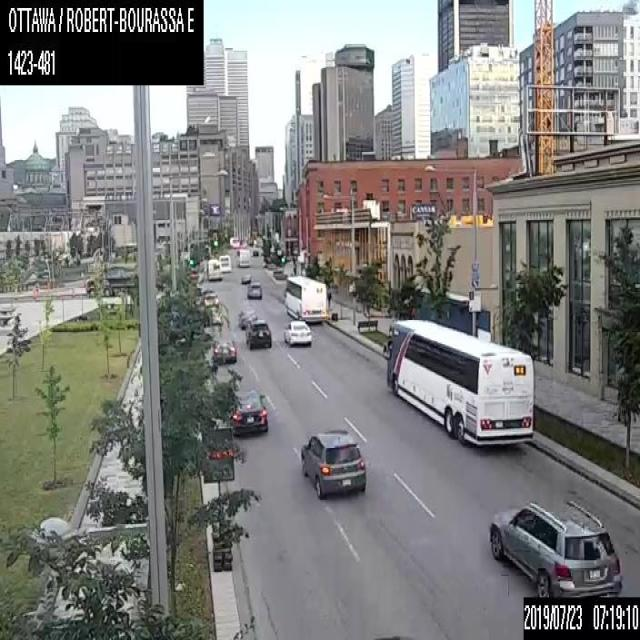bus: (381, 316, 533, 445), (284, 275, 329, 322), (206, 257, 221, 280), (235, 246, 249, 266), (218, 254, 231, 271)
construction: (201, 427, 234, 572)
pedestrian: (325, 284, 331, 308), (292, 259, 296, 273)
vehicle: (488, 498, 621, 594), (300, 430, 365, 498), (84, 264, 139, 297), (232, 385, 267, 432), (282, 318, 312, 346), (244, 319, 271, 348), (211, 338, 235, 362), (238, 305, 257, 329), (202, 304, 222, 324), (246, 281, 261, 299), (240, 273, 250, 283), (252, 248, 258, 254)
